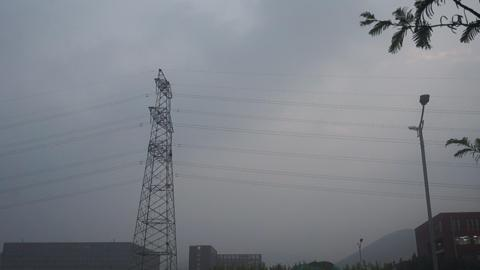UAV: (166, 184, 172, 187)
